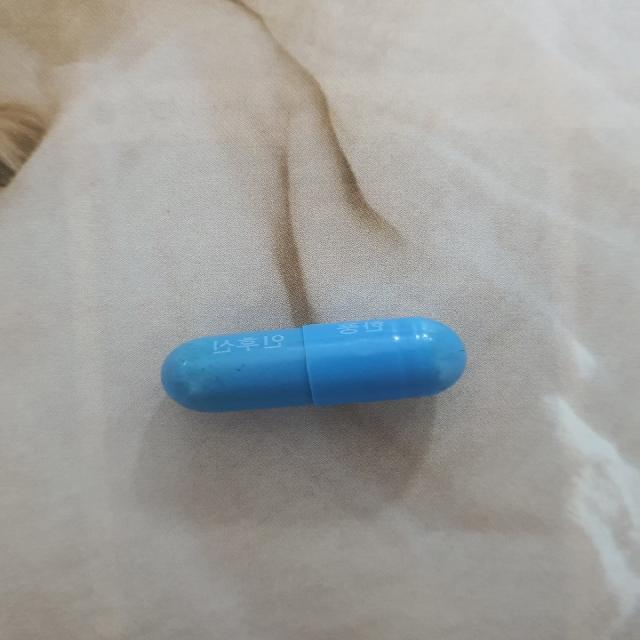pill: (151, 304, 472, 432)
